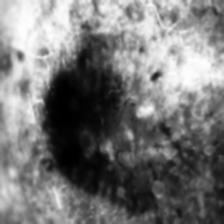Potentially Malignant Skin Tumors: (37, 62, 129, 194)
